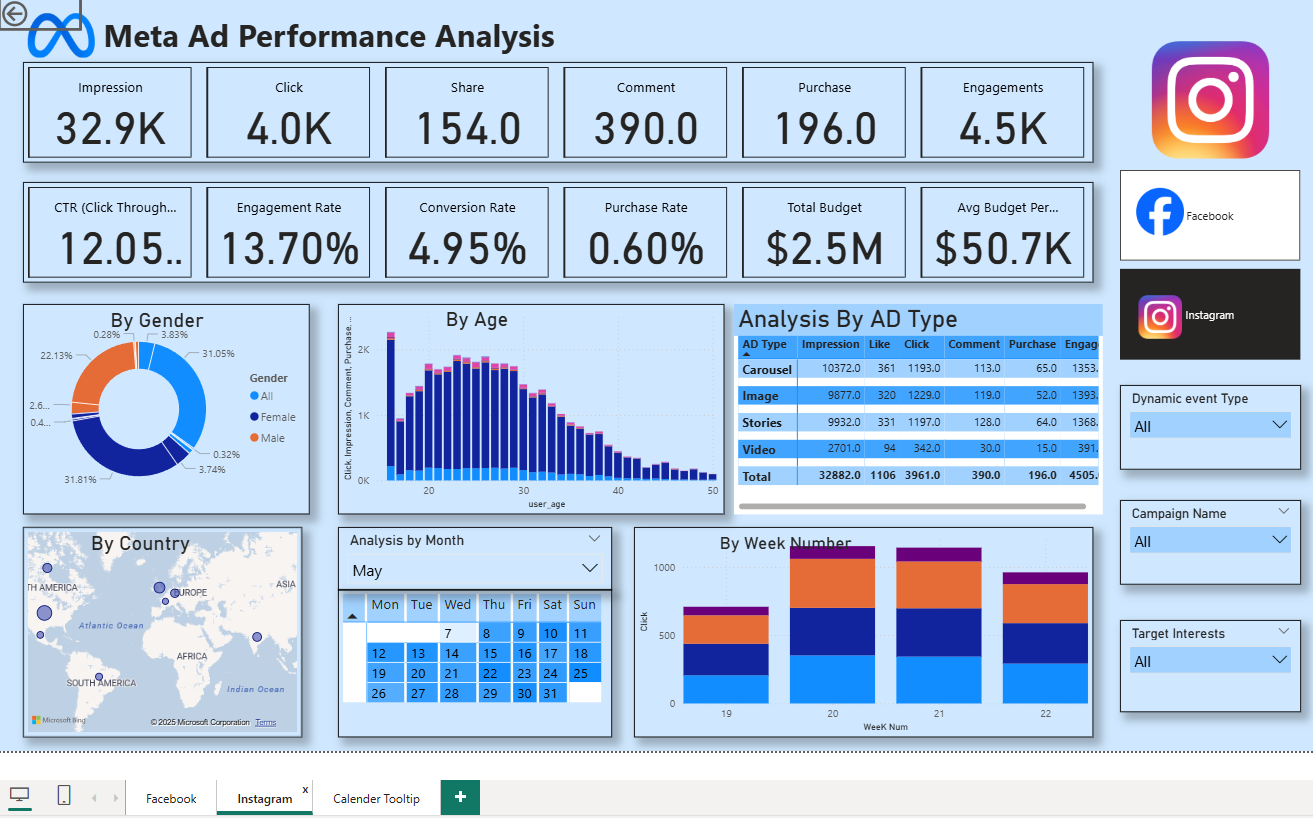

What the dashboard file says about the page in this screenshot:
{"tool":"powerbi","page":{"name":"Instagram","canvas":[1570,900],"ordinal":1},"visuals":[{"type":"textbox","box":[120.8,14.4,569.7,63],"z":0},{"type":"image","box":[21.5,14.3,108.6,63.2],"z":1000},{"type":"cardVisual","fields":{"Data":["ad_events.Impression","ad_events.Click","ad_events.Share","ad_events.Comment","ad_events.Purchase","ad_events.Engagements"]},"box":[29.8,77.5,1276.5,120.5],"z":2000},{"type":"actionButton","box":[0,0,100,40],"z":3000},{"type":"cardVisual","fields":{"Data":["ad_events.CTR (Click Through Rate)","ad_events.Engagement Rate","ad_events.Conversion Rate","ad_events.Purchase Rate","ad_events.Total Budget","ad_events.Avg Budget Per Campaign"]},"box":[29.8,220.7,1276.5,120.5],"z":4000},{"type":"slicer","fields":{"Values":["Dynamic event Type.Dynamic event Type"]},"box":[1338.6,462.9,215.9,101.4],"z":5000},{"type":"donutChart","fields":{"Y":["ad_events.Click","ad_events.Impression","ad_events.Comment","ad_events.Purchase","ad_events.Like","ad_events.Share"],"Category":["ads.target_gender"]},"box":[29.8,366.3,342.4,250.5],"z":6000},{"type":"card","fields":{"Values":["Dynamic event Type.Gender Title"]},"box":[50.1,350.7,273.2,66.8],"z":7000},{"type":"columnChart","fields":{"Y":["ad_events.Click","ad_events.Impression","ad_events.Comment","ad_events.Purchase","ad_events.Like","ad_events.Share"],"Category":["users.user_age"]},"box":[405.6,366.3,460.5,250.5],"z":8000},{"type":"card","fields":{"Values":["Dynamic event Type.Age Title"]},"box":[431.9,349.6,273.2,68],"z":9000},{"type":"map","fields":{"Size":["ad_events.Click"],"Category":["users.country"]},"box":[29.8,632.3,332.8,250.5],"z":10000},{"type":"card","fields":{"Values":["Dynamic event Type.Country Title"]},"box":[29.8,616.8,274.4,68],"z":11000},{"type":"pivotTable","fields":{"Rows":["Calender Table.Weel Num"],"Columns":["Calender Table.Day Name"],"Values":["Min(Calender Table.Day Number)"]},"box":[405.6,706.3,326.9,176.6],"z":12000},{"type":"slicer","fields":{"Values":["Calender Table.Month"]},"box":[405.6,632.3,326.9,76.4],"z":13000},{"type":"columnChart","fields":{"Y":["ad_events.Click"],"Category":["Calender Table.WeeK Num"],"Series":["ads.ad_type"]},"box":[758.8,632.3,547.6,250.5],"z":14000},{"type":"card","fields":{"Values":["Dynamic event Type.Week Title"]},"box":[800.5,616.8,273.2,68],"z":15000},{"type":"pivotTable","title":"Analysis By AD Type","fields":{"Rows":["ads.ad_type"],"Values":["ad_events.Impression","ad_events.Like","ad_events.Click","ad_events.Comment","ad_events.Purchase","ad_events.Engagements"]},"box":[878.1,366.3,440.2,250.5],"z":16000},{"type":"slicer","fields":{"Values":["campaigns.name"]},"box":[1338.6,600.1,215.9,101.4],"z":17000},{"type":"slicer","fields":{"Values":["ads.target_interests"]},"box":[1338.6,743.2,215.9,109.8],"z":18000},{"type":"pageNavigator","box":[1338.6,206.4,215.9,227.9],"z":19000},{"type":"image","box":[1339,48,216,150],"z":19001},{"type":"image","box":[1338.6,350.7,95.4,62],"z":19002},{"type":"image","box":[1352.9,220.7,66.8,70.4],"z":19003},{"type":"actionButton","box":[0,0,100,40],"z":19004},{"type":"actionButton","box":[0,0,100,40],"z":19005}]}

Visuals, with their boxes on the page's 1570x900 design canvas (x1, y1, x2, y2). These are canvas units, not pixel positions in the 1313x818 screenshot, which may show the page scaled, cropped or inside an application window:
textbox: 121/14/690/77
image: 22/14/130/78
cardVisual - ad_events.Impression x ad_events.Click: 30/78/1306/198
actionButton: 0/0/100/40
cardVisual - ad_events.CTR (Click Through Rate) x ad_events.Engagement Rate: 30/221/1306/341
slicer - Dynamic event Type.Dynamic event Type: 1339/463/1554/564
donutChart - ad_events.Click x ad_events.Impression: 30/366/372/617
card - Dynamic event Type.Gender Title: 50/351/323/418
columnChart - ad_events.Click x ad_events.Impression: 406/366/866/617
card - Dynamic event Type.Age Title: 432/350/705/418
map - ad_events.Click x users.country: 30/632/363/883
card - Dynamic event Type.Country Title: 30/617/304/685
pivotTable - Calender Table.Weel Num x Calender Table.Day Name: 406/706/732/883
slicer - Calender Table.Month: 406/632/732/709
columnChart - ad_events.Click x Calender Table.WeeK Num: 759/632/1306/883
card - Dynamic event Type.Week Title: 800/617/1074/685
"Analysis By AD Type" pivotTable: 878/366/1318/617
slicer - campaigns.name: 1339/600/1554/702
slicer - ads.target_interests: 1339/743/1554/853
pageNavigator: 1339/206/1554/434
image: 1339/48/1555/198
image: 1339/351/1434/413
image: 1353/221/1420/291
actionButton: 0/0/100/40
actionButton: 0/0/100/40
